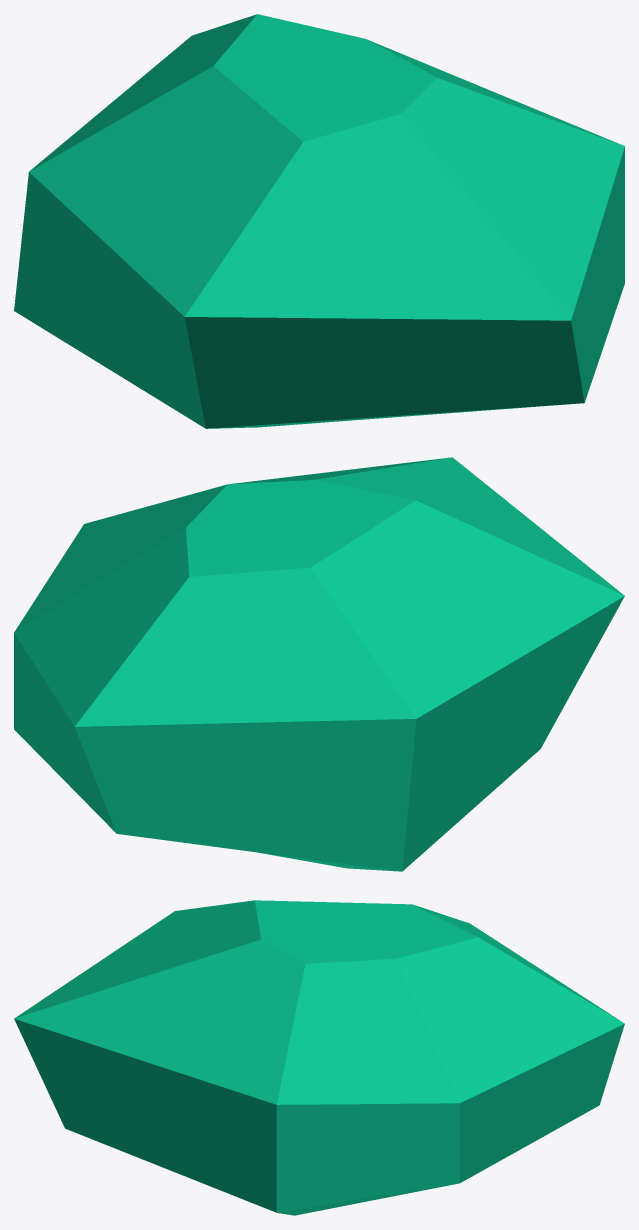
Rendered from Jem_32.fbx.
3 views of the same model, one above another, from view 1: azimuth 30°, elevation 25°; view 2: azimuth 150°, elevation 25°; view 3: azimuth 270°, elevation 25° (orthographic). The views are drawn at different scales.
Parts seen in each view (by area): view 1: Jem_32; view 2: Jem_32; view 3: Jem_32.
Boxes of the visible parts, left/top/right/bottom form: Jem_32: left=14, top=14, right=624, bottom=428; Jem_32: left=14, top=457, right=624, bottom=871; Jem_32: left=14, top=900, right=624, bottom=1215.
Bounding box in the file's own units: 48.51 × 26.17 × 64.66.
